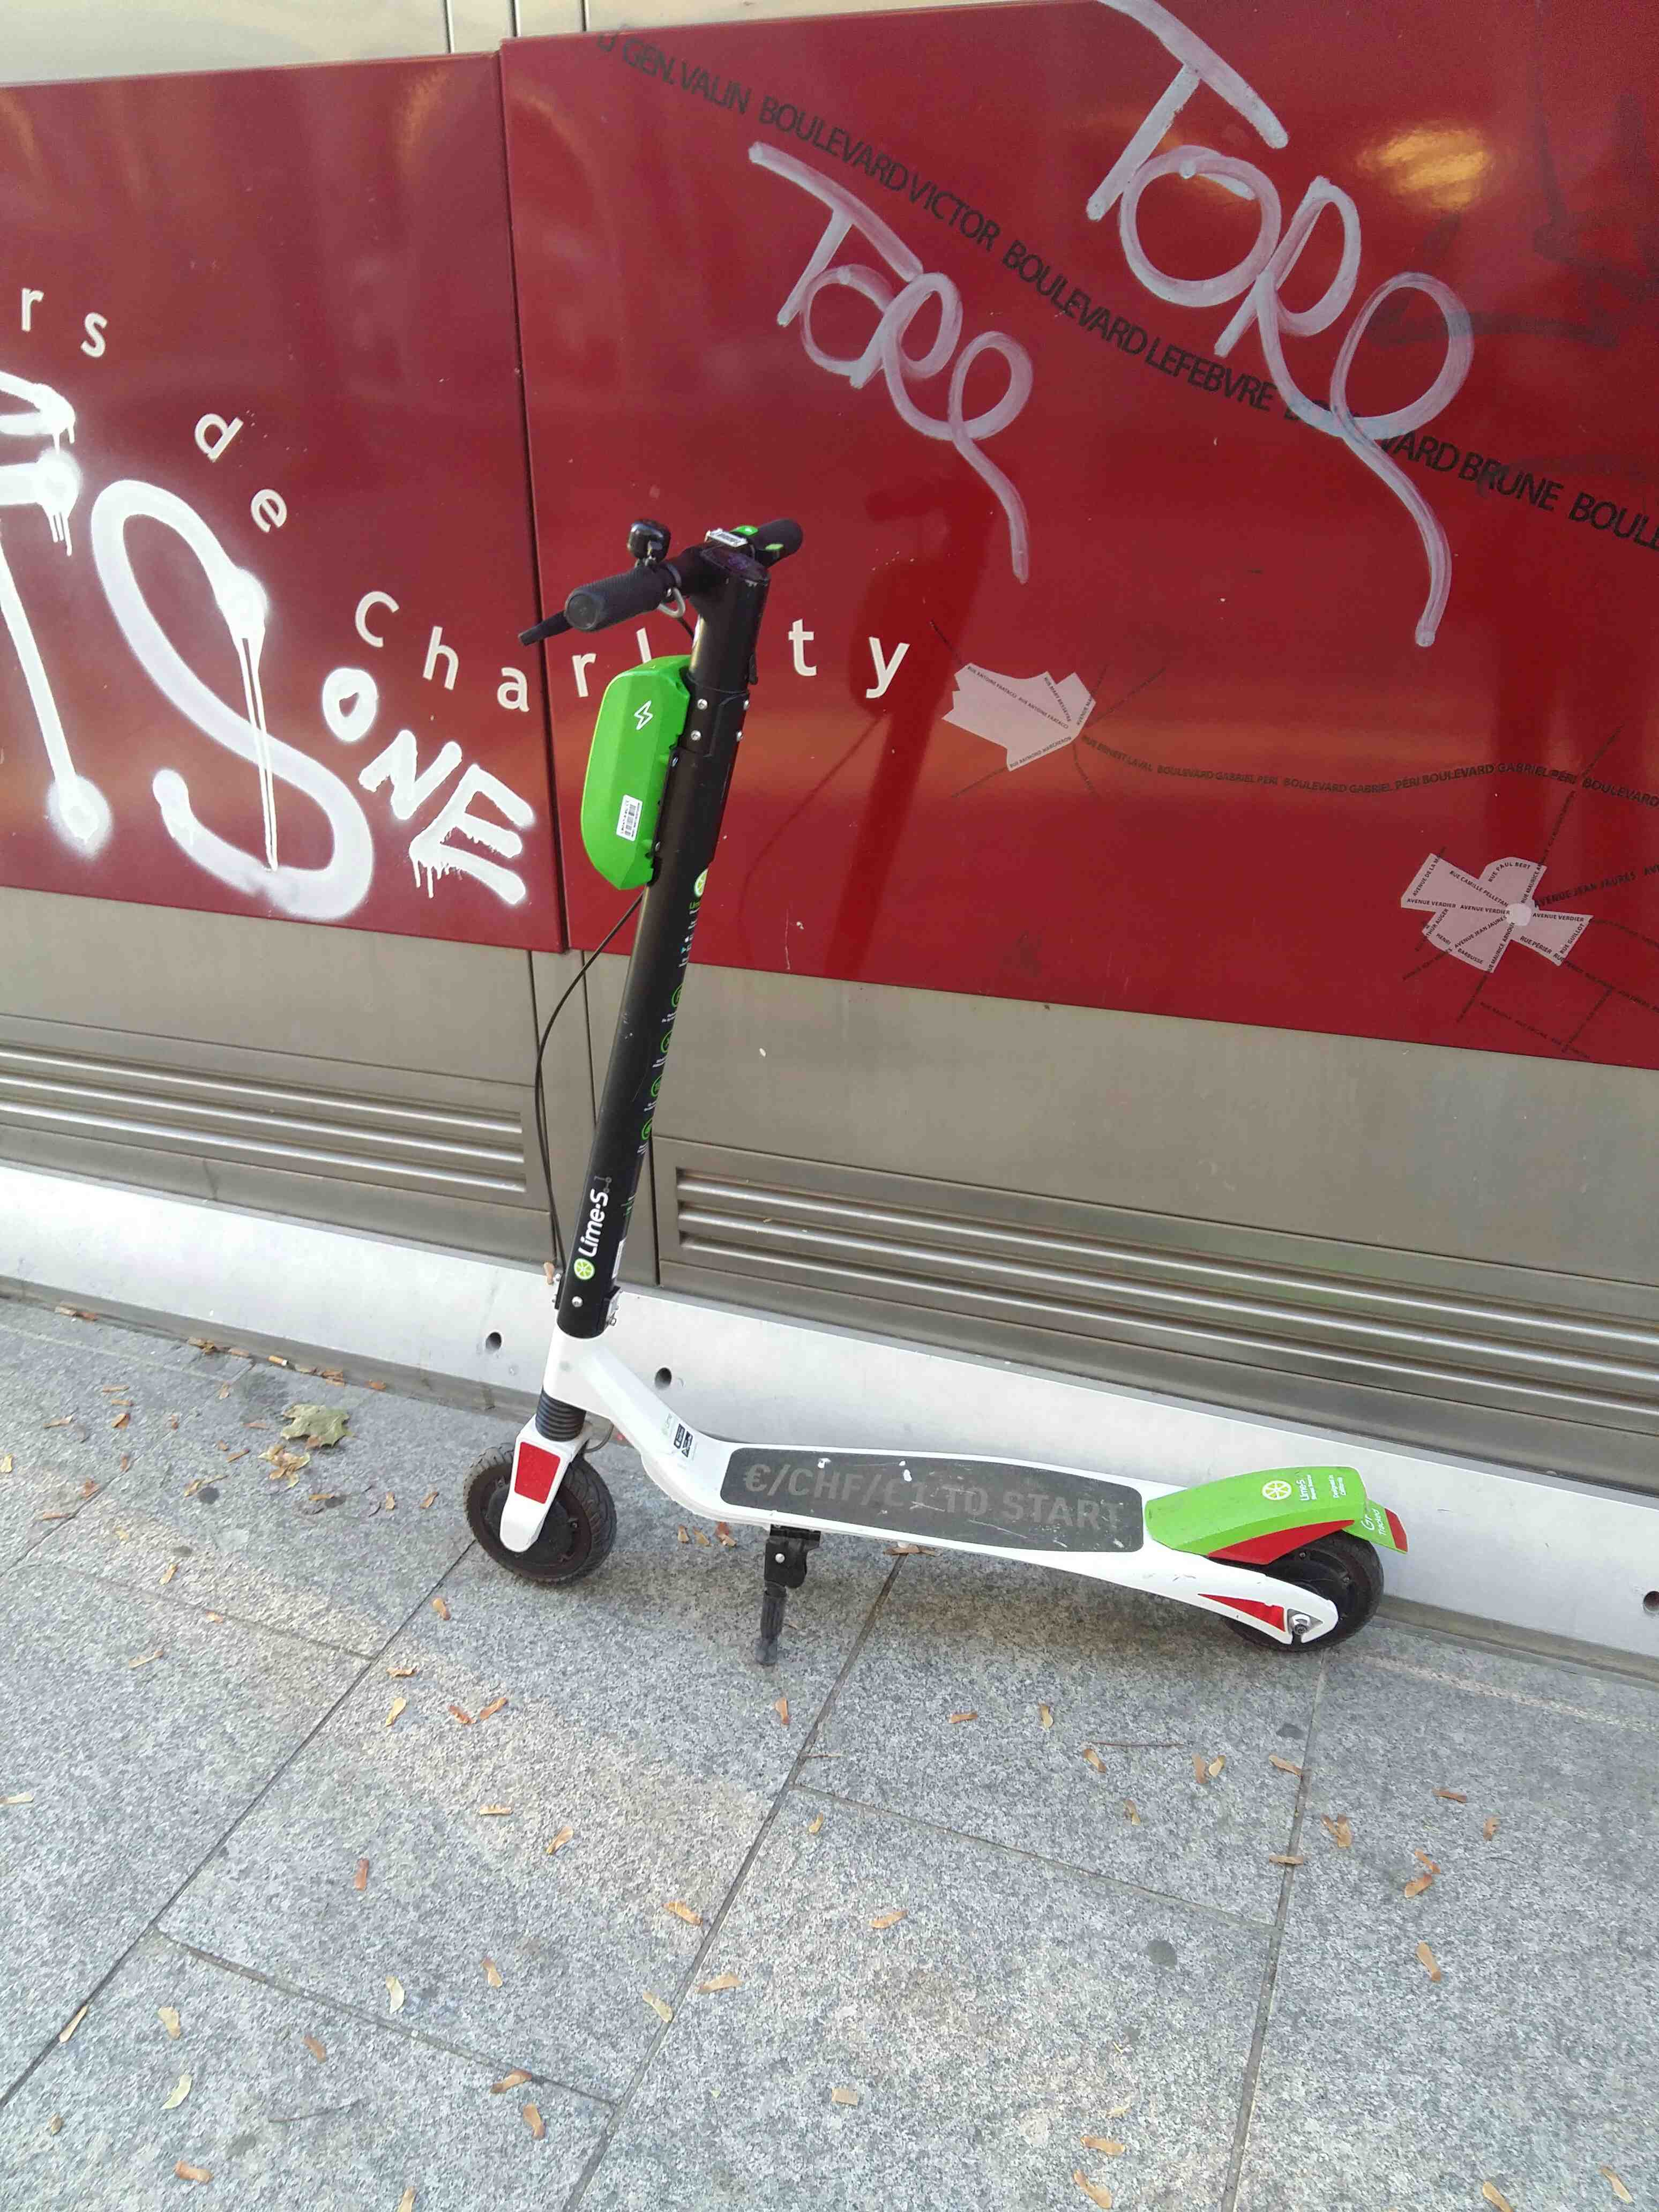scooter: (444, 460, 1424, 1693)
